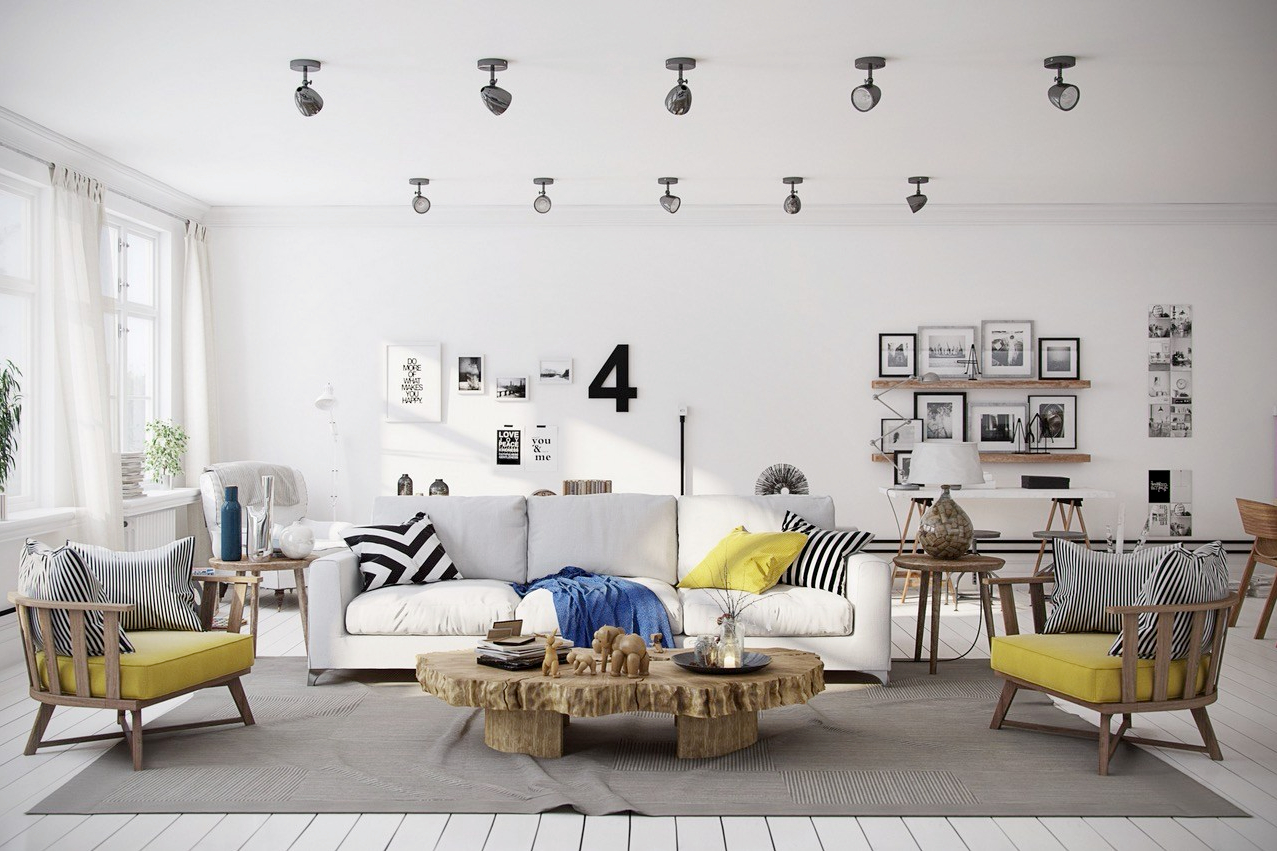kursi: (975, 551, 1233, 766), (1, 543, 257, 758)
meja: (410, 631, 827, 764)
sova: (309, 491, 902, 690)
